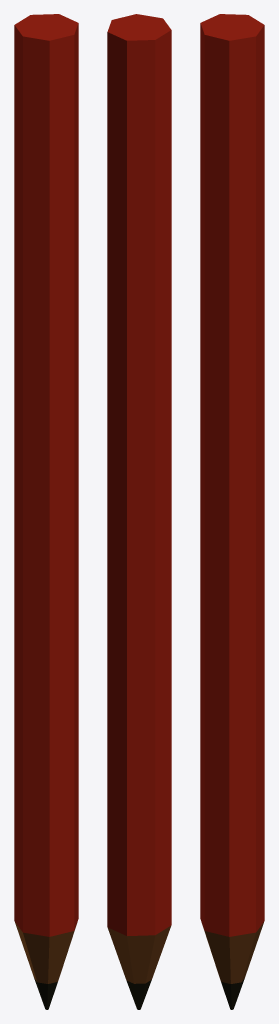
File: pencilred.fbx
3 views of the same model, side by side, from view 1: azimuth 30°, elevation 25°; view 2: azimuth 210°, elevation 25°; view 3: azimuth 330°, elevation 25° (orthographic).
Parts seen in each view (by area): view 1: Cylinder, Cylinder.001, Cylinder.002; view 2: Cylinder, Cylinder.001, Cylinder.002; view 3: Cylinder, Cylinder.001, Cylinder.002.
Boxes of the visible parts, x1=… form: Cylinder: x1=14, y1=14, x2=78, y2=936; Cylinder.001: x1=15, y1=922, x2=76, y2=983; Cylinder.002: x1=34, y1=978, x2=57, y2=1009; Cylinder: x1=107, y1=14, x2=171, y2=935; Cylinder.001: x1=107, y1=926, x2=170, y2=983; Cylinder.002: x1=126, y1=980, x2=151, y2=1009; Cylinder: x1=200, y1=14, x2=264, y2=936; Cylinder.001: x1=202, y1=922, x2=263, y2=983; Cylinder.002: x1=221, y1=978, x2=244, y2=1009.
Size of the model in its own units: 0.9749 by 16.44 by 0.9505.
